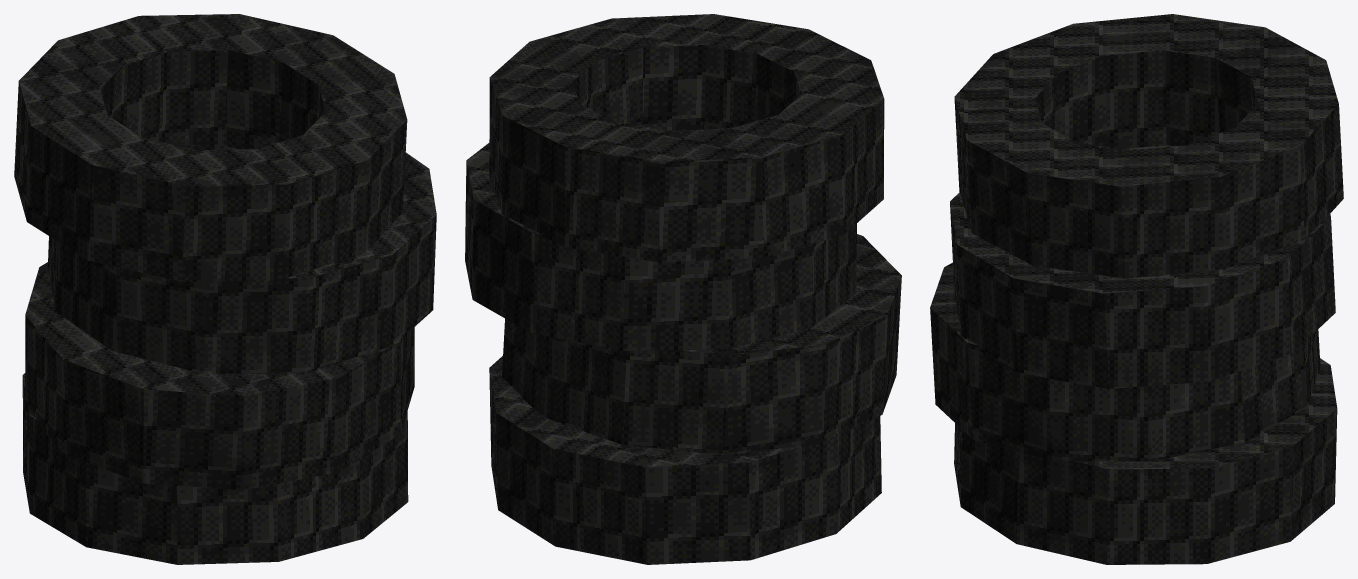
File: prop_tire_stack.glb
3 renders of one model, left to right at view 1: azimuth 30°, elevation 25°; view 2: azimuth 150°, elevation 25°; view 3: azimuth 270°, elevation 25°, orthographic. The views are drawn at different scales.
Parts seen in each view (by area): view 1: prop_tire_stack_mesh; view 2: prop_tire_stack_mesh; view 3: prop_tire_stack_mesh.
Part boxes in pixels (<box>): prop_tire_stack_mesh: <box>14,14,436,564</box>; prop_tire_stack_mesh: <box>465,14,901,564</box>; prop_tire_stack_mesh: <box>930,14,1343,564</box>.
Bounding box in the file's own units: 0.878 × 0.9105 × 0.8625.
2 materials, 2 textured.
